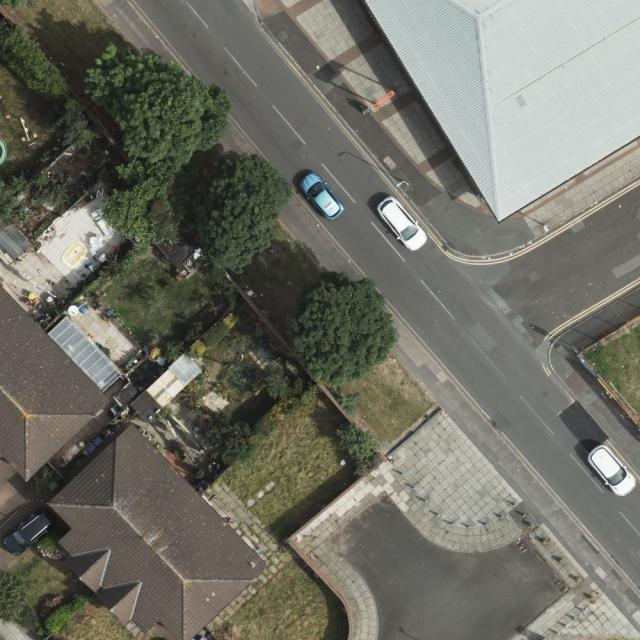roof: (364, 0, 640, 227), (48, 421, 268, 640), (0, 282, 123, 479)
